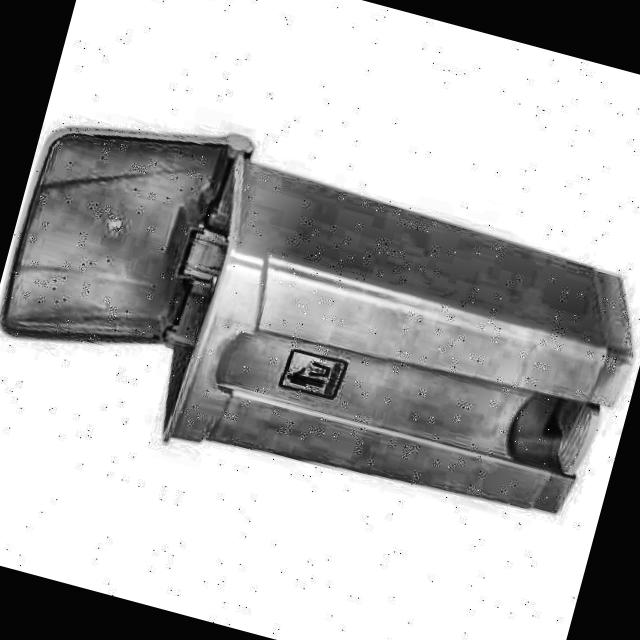Dustbin: (108, 111, 640, 599)
